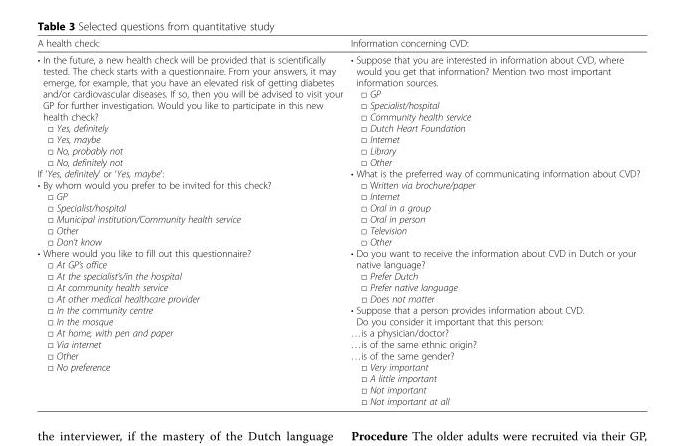table: (36, 37, 639, 406)
table column: (36, 37, 346, 406), (346, 37, 639, 406)
table column header: (36, 37, 639, 51)
table row: (36, 51, 639, 406), (36, 37, 639, 51)
